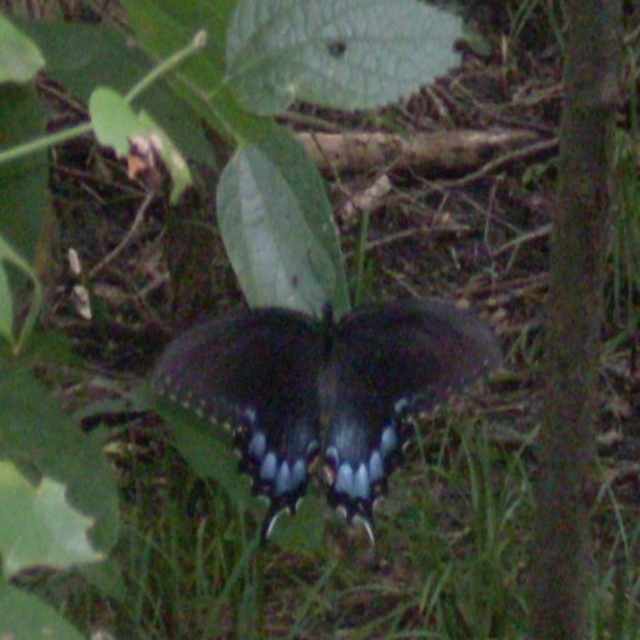Butterfly: (141, 250, 521, 527)
